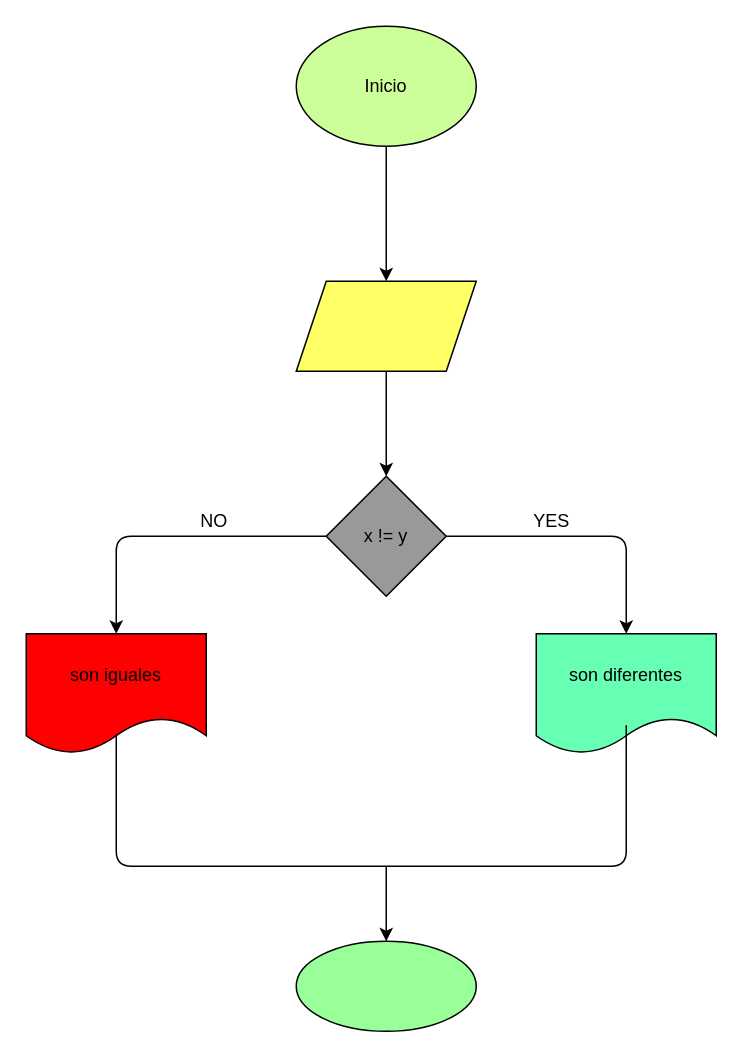
This 743x1058 diagram has some shape labels left out. The shapes that lost their labels are listed below. From the top down, each one's centre as x and y in pixels, then its label:
At (385,325): "x,y".
At (385,985): "Fin".
